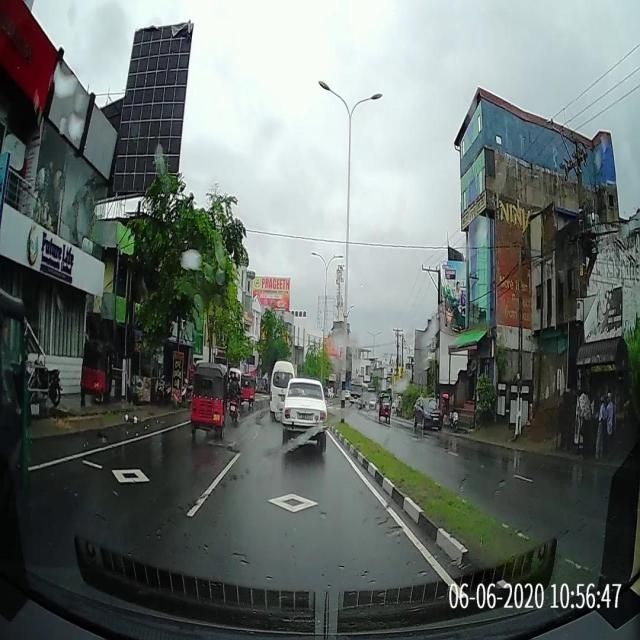Liniya 1: (328, 433, 455, 587), (27, 421, 191, 472), (186, 453, 242, 518), (514, 474, 533, 482)
Romb: (268, 491, 316, 515), (112, 465, 149, 482)
